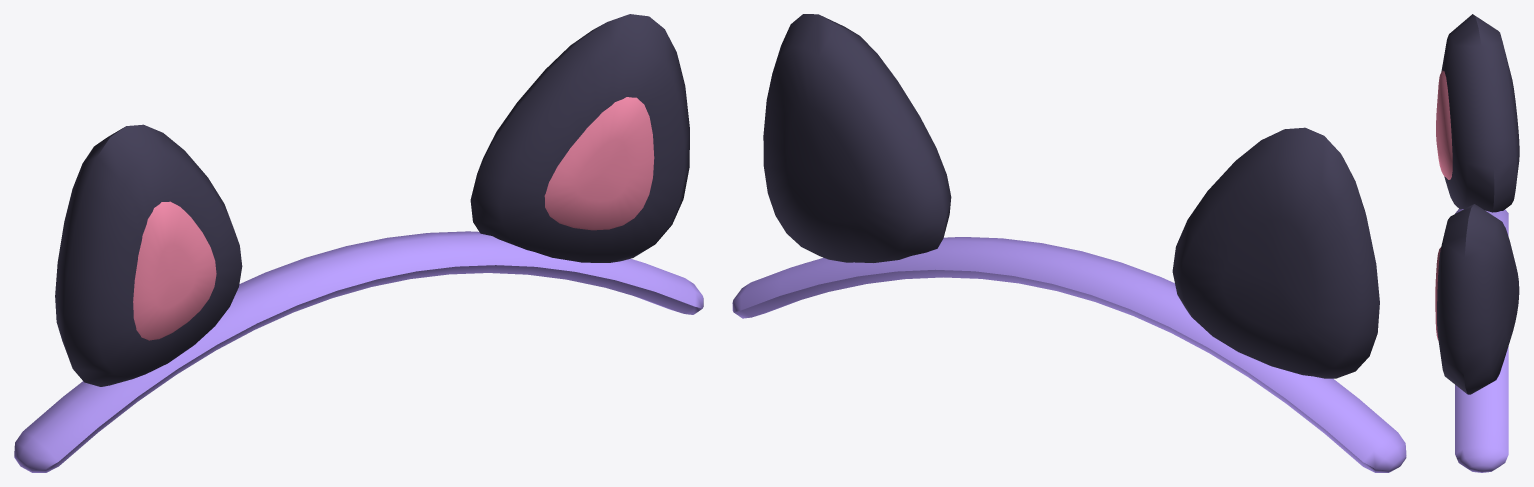
Rendered from cat_ears.glb.
3 renders of one model, left to right at view 1: azimuth 30°, elevation 25°; view 2: azimuth 150°, elevation 25°; view 3: azimuth 270°, elevation 25°, orthographic. The views are drawn at different scales.
Visible parts, largest first — view 1: cat_ears; view 2: cat_ears; view 3: cat_ears.
Part boxes in pixels (box(x1,y1,x2,y2)): cat_ears: box(14, 14, 703, 472); cat_ears: box(732, 14, 1406, 472); cat_ears: box(1435, 14, 1519, 472).
Size of the model in its own units: 0.5764 by 0.2632 by 0.0817.
